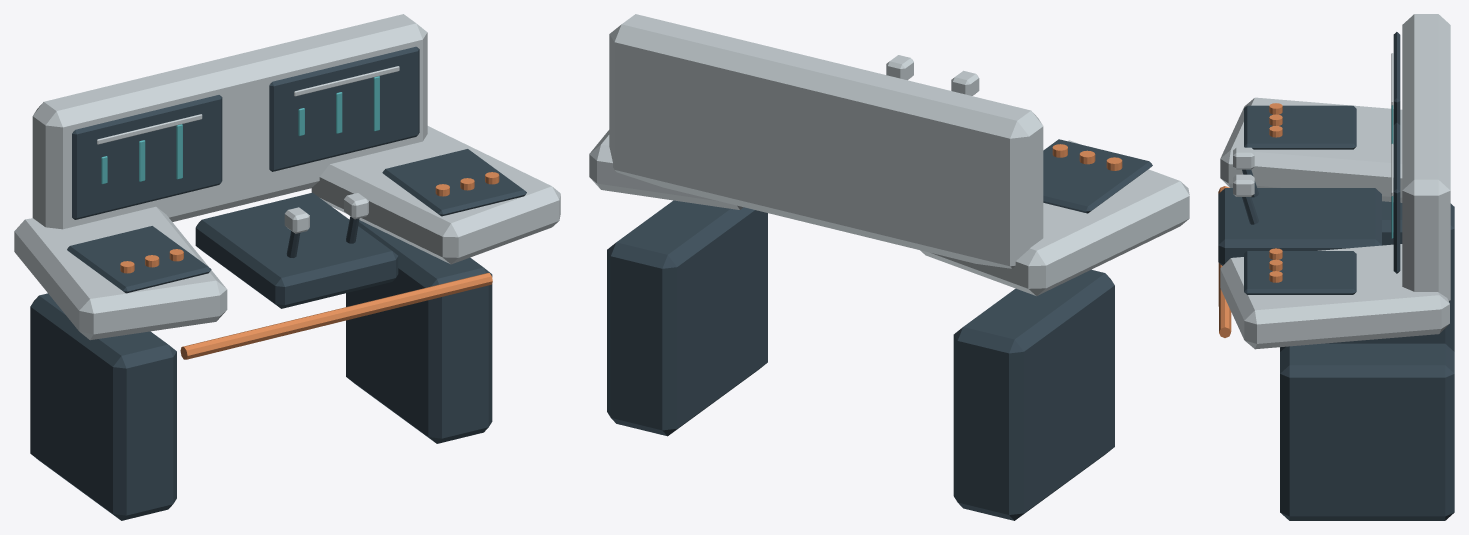
3 views of the same model, side by side, from view 1: azimuth 30°, elevation 25°; view 2: azimuth 150°, elevation 25°; view 3: azimuth 270°, elevation 25° (orthographic). The views are drawn at different scales.
Parts seen in each view (by area): view 1: RI-001 Wraparound cockpit console batched; view 2: RI-001 Wraparound cockpit console batched; view 3: RI-001 Wraparound cockpit console batched.
Part boxes in pixels (x1=…): RI-001 Wraparound cockpit console batched: x1=14, y1=14, x2=560, y2=520; RI-001 Wraparound cockpit console batched: x1=589, y1=14, x2=1189, y2=520; RI-001 Wraparound cockpit console batched: x1=1218, y1=14, x2=1454, y2=520.
Bounding box in the file's own units: 1.95 × 1.4 × 0.88.
